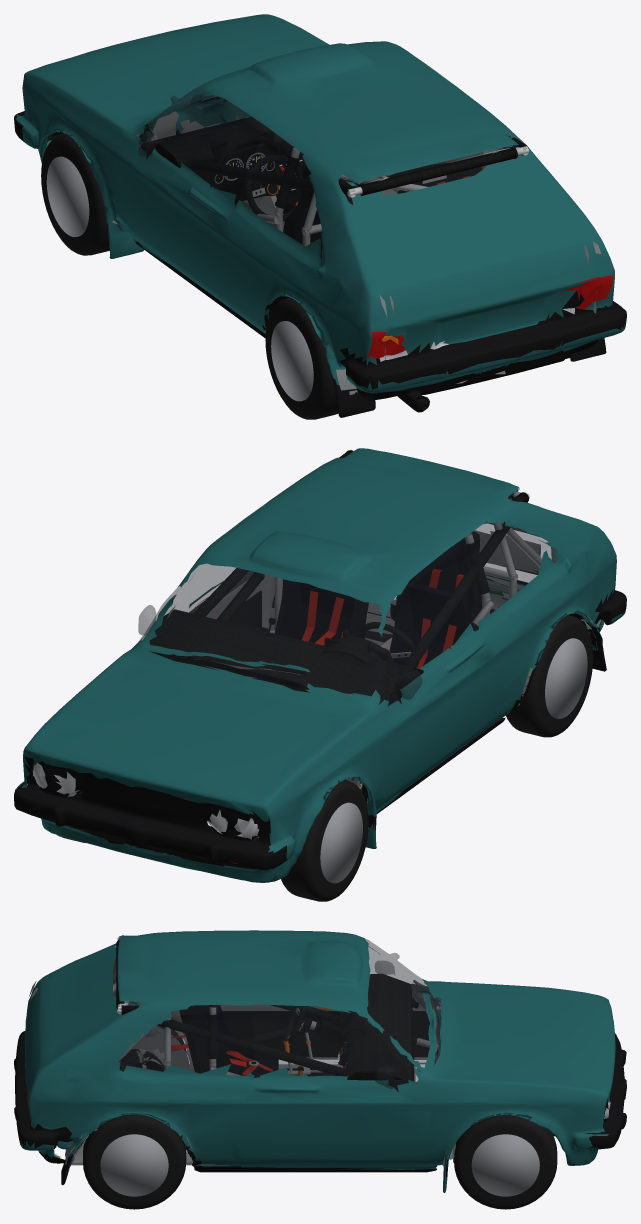
The model's file is car_lynx.glb.
3 views of the same model, one above another, from view 1: azimuth 30°, elevation 25°; view 2: azimuth 150°, elevation 25°; view 3: azimuth 270°, elevation 25° (orthographic). The views are drawn at different scales.
Parts seen in each view (by area): view 1: Body, Interior, WheelRL, WheelFL, SteeringWheelMesh; view 2: Body, Interior, WheelFL, WheelRL; view 3: Body, Interior, WheelFR, WheelRR, SteeringWheelMesh, WheelRL.
Boxes of the visible parts, x1,y1,x2,y2 form: Body: (14, 14, 626, 417); Interior: (112, 96, 601, 394); WheelRL: (265, 297, 338, 419); WheelFL: (41, 133, 109, 255); SteeringWheelMesh: (245, 154, 302, 221); Body: (14, 448, 626, 882); Interior: (148, 450, 600, 804); WheelFL: (281, 779, 368, 901); WheelRL: (506, 615, 593, 737); Body: (14, 930, 626, 1192); Interior: (29, 935, 455, 1165); WheelFR: (454, 1115, 557, 1209); WheelRR: (83, 1114, 186, 1209); SteeringWheelMesh: (284, 1006, 316, 1045); WheelRL: (119, 1025, 186, 1071).
Size of the model in its own units: 1.82 by 1.51 by 4.2.
Materials: 33 (9 with a texture image).
